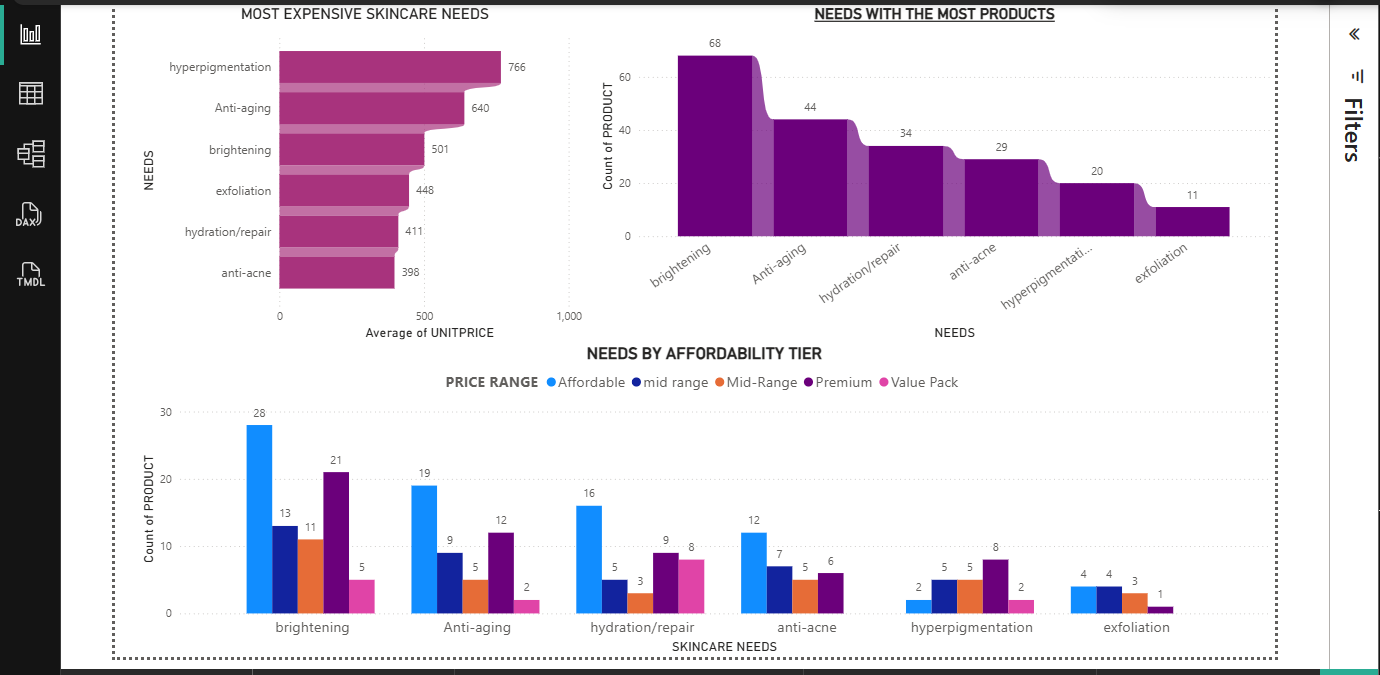

The page's visual inventory and layout, read from the dashboard file:
{"tool":"powerbi","page":{"name":"NEEDS ANALYSIS","canvas":[1280,720],"ordinal":0},"visuals":[{"type":"clusteredColumnChart","title":"NEEDS BY AFFORDABILITY TIER","fields":{"Category":["Retail Skincare Data Analysis.NEEDS"],"Series":["Retail Skincare Data Analysis.PRICE RANGE"],"Y":["CountNonNull(Retail Skincare Data Analysis.PRODUCT(CLEANED DATA))"]},"box":[23.9,374.1,1255.5,346.2],"z":0},{"type":"columnChart","title":"NEEDS WITH THE MOST PRODUCTS","fields":{"Category":["Retail Skincare Data Analysis.NEEDS"],"Y":["Count(Retail Skincare Data Analysis.PRODUCT(CLEANED DATA))"]},"box":[529.2,0,750.1,374.1],"z":1000},{"type":"barChart","title":"MOST EXPENSIVE SKINCARE NEEDS","fields":{"Y":["Avg(Retail Skincare Data Analysis.UNITPRICE)"],"Category":["Retail Skincare Data Analysis.NEEDS"]},"box":[23.9,0,505.4,374.1],"z":2000}]}

Visuals, with their boxes on the page's 1280x720 design canvas (x1, y1, x2, y2). These are canvas units, not pixel positions in the 1380x675 screenshot, which may show the page scaled, cropped or inside an application window:
"NEEDS BY AFFORDABILITY TIER" clusteredColumnChart: bbox=(24, 374, 1279, 720)
"NEEDS WITH THE MOST PRODUCTS" columnChart: bbox=(529, 0, 1279, 374)
"MOST EXPENSIVE SKINCARE NEEDS" barChart: bbox=(24, 0, 529, 374)
